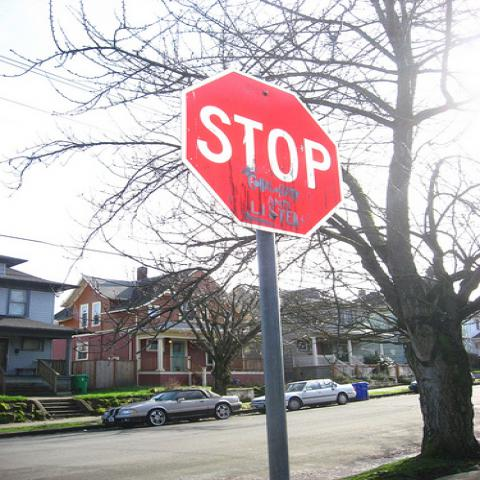car: (100, 387, 242, 426), (248, 378, 360, 414), (408, 371, 476, 395)
